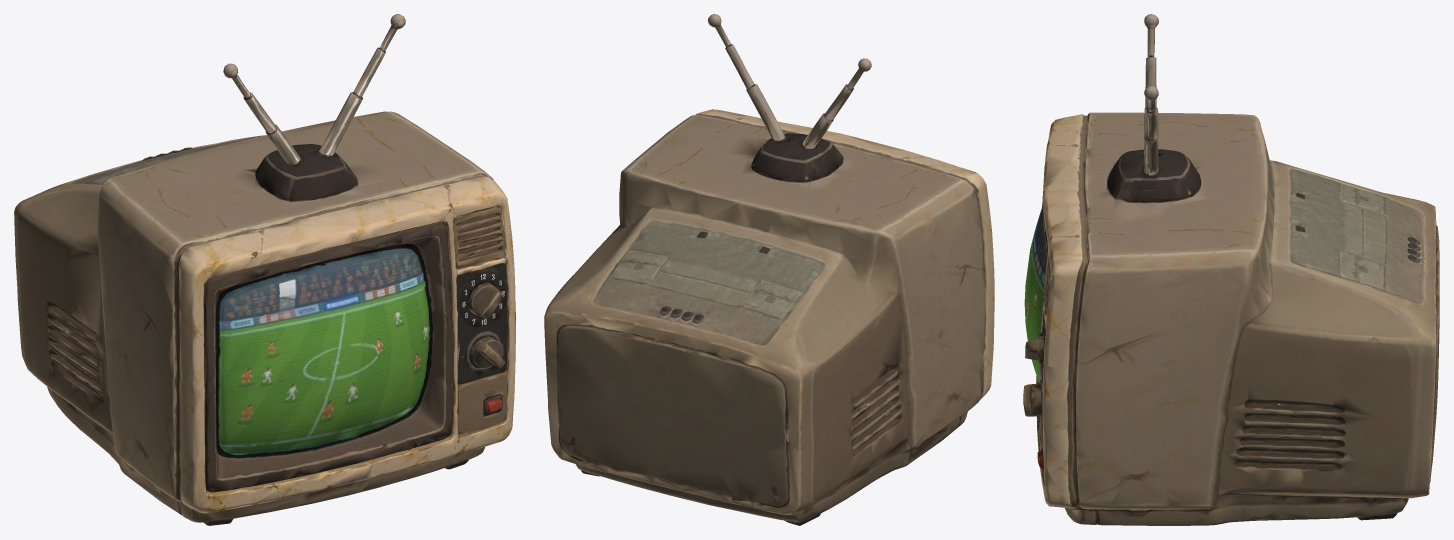
Rendered from d_crttv.glb.
3 renders of one model, left to right at view 1: azimuth 30°, elevation 25°; view 2: azimuth 150°, elevation 25°; view 3: azimuth 270°, elevation 25°, orthographic. The views are drawn at different scales.
Bounding box in the file's own units: 1.56 × 1.9 × 1.71.
Materials: 1 (1 with a texture image).
